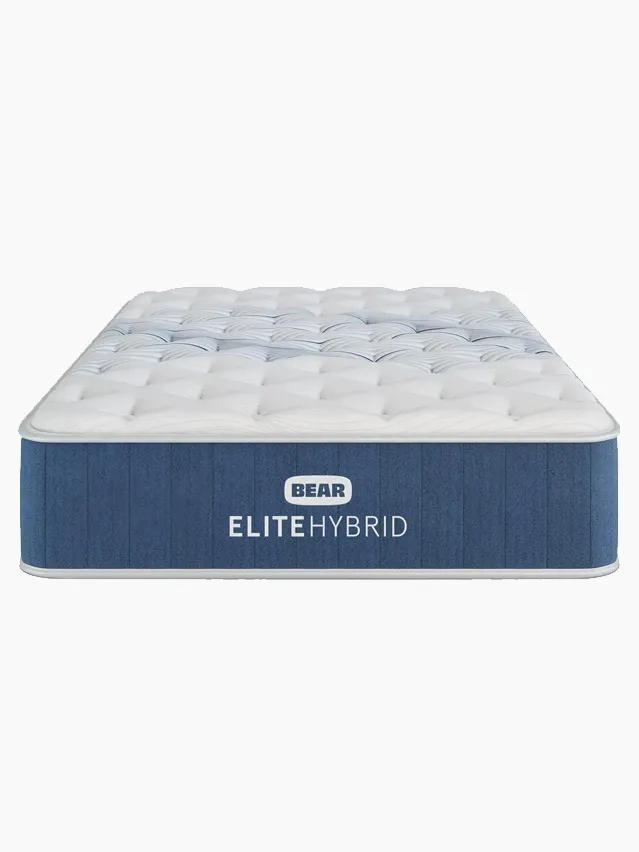Bed-Mattress: (13, 278, 630, 586)
